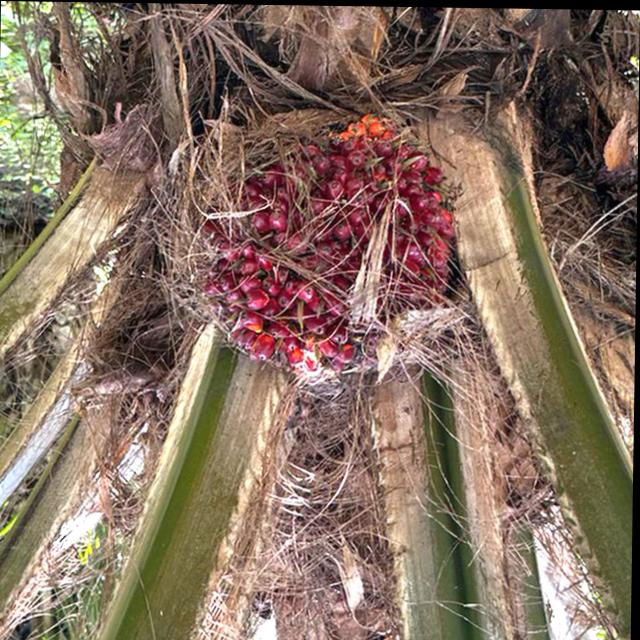ripe: (174, 117, 474, 394)
